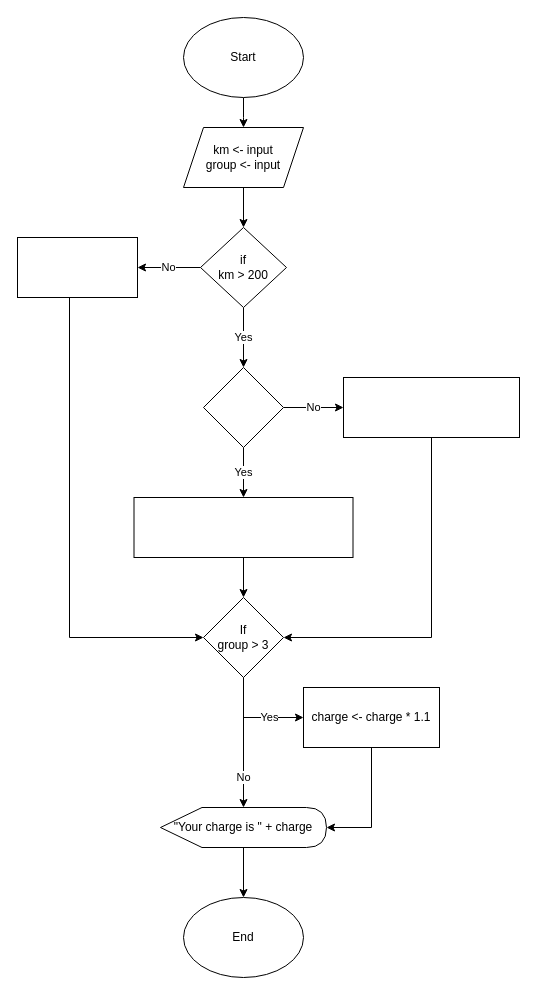
This 537x995 diagram has some shape labels left out. Here are the shapes that lost their labels. From the top down, the centre of each, then its label:
the point at 77,267: charge <- 20
the point at 243,407: if km > 400
the point at 431,407: charge <- 20 + (.03 * (km - 200))
the point at 243,527: charge <- (20 + (.03 * (km - 200))) * 1.15
